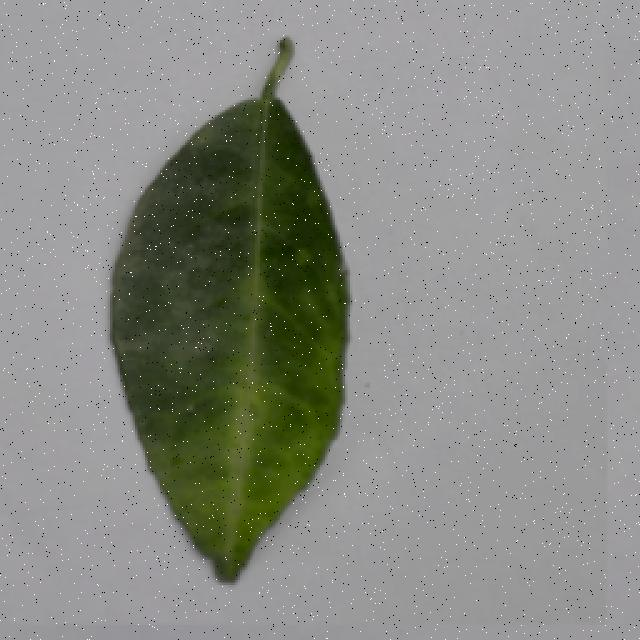greening: (72, 31, 360, 590)
